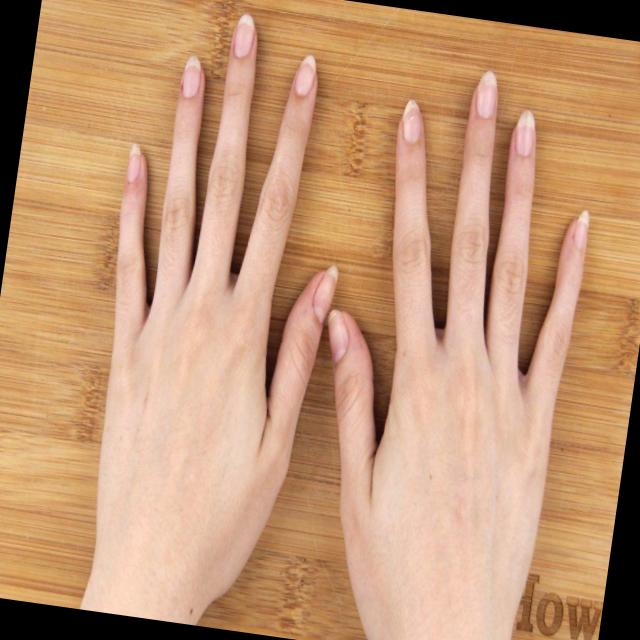Nail: (313, 266, 339, 324), (328, 310, 350, 366), (476, 72, 497, 119), (234, 15, 255, 58), (295, 55, 316, 97), (516, 111, 535, 157), (402, 100, 421, 145), (182, 56, 201, 99), (573, 210, 589, 250), (127, 144, 141, 182)
